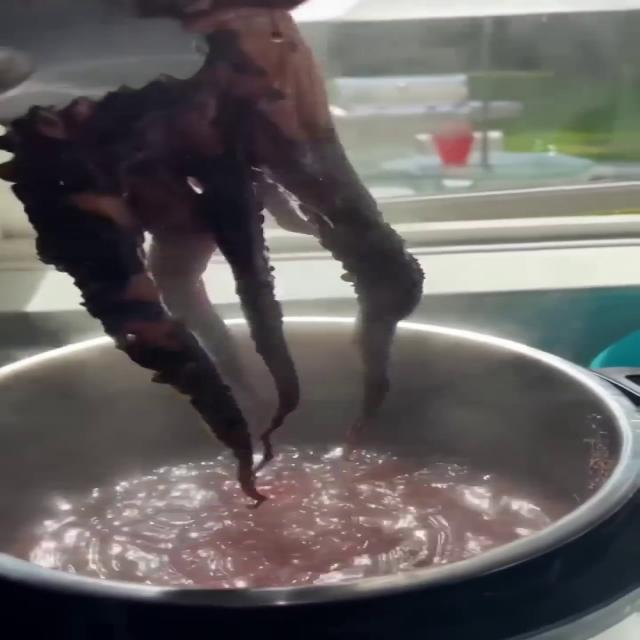octopus: (0, 0, 431, 500)
